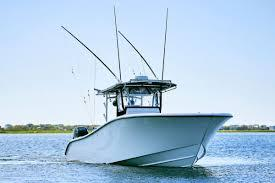fishing boat: (62, 9, 237, 169)
